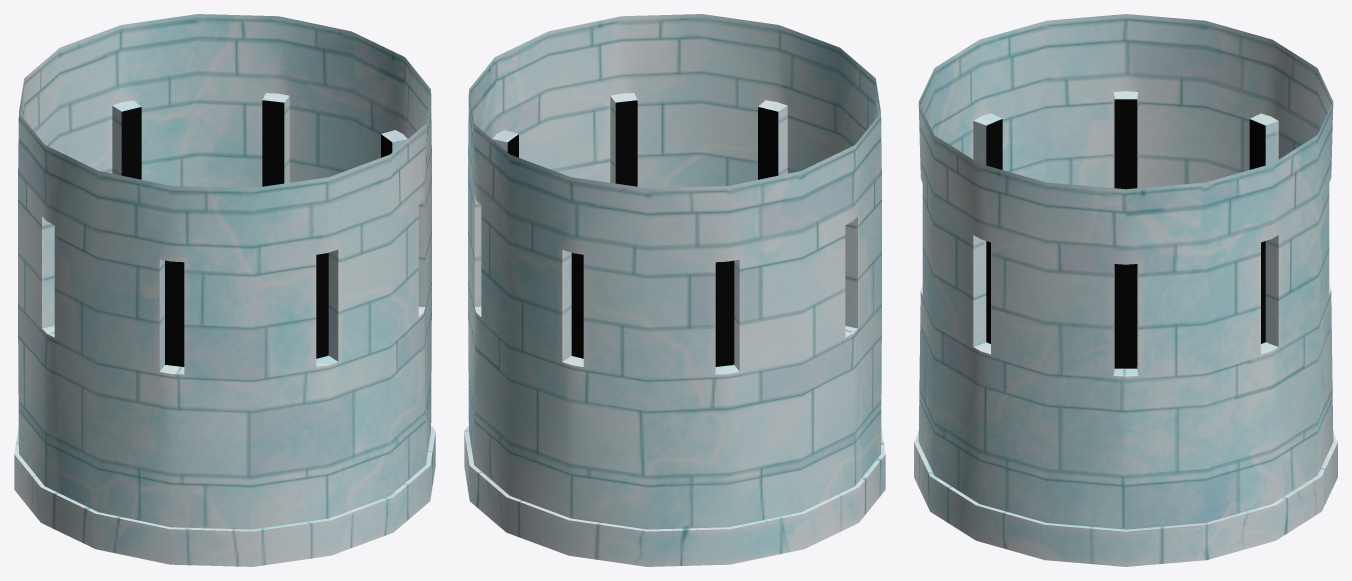
Rendered from sb_obj_outdoor023_IceCastle01_CircleWall01.fbx.
3 renders of one model, left to right at view 1: azimuth 30°, elevation 25°; view 2: azimuth 150°, elevation 25°; view 3: azimuth 270°, elevation 25°, orthographic.
Parts seen in each view (by area): view 1: sb_obj_outdoor023_IceCastle01_CircleWall01; view 2: sb_obj_outdoor023_IceCastle01_CircleWall01; view 3: sb_obj_outdoor023_IceCastle01_CircleWall01.
Part boxes in pixels (box(x1,y1,x2,y2)): sb_obj_outdoor023_IceCastle01_CircleWall01: box(14, 14, 435, 566); sb_obj_outdoor023_IceCastle01_CircleWall01: box(464, 14, 885, 566); sb_obj_outdoor023_IceCastle01_CircleWall01: box(914, 14, 1337, 566).
Bounding box in the file's own units: 3.07 × 3 × 3.07.
